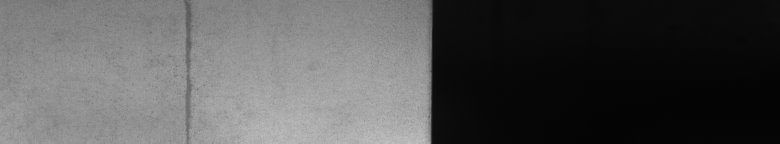hd: (174, 4, 200, 136)
